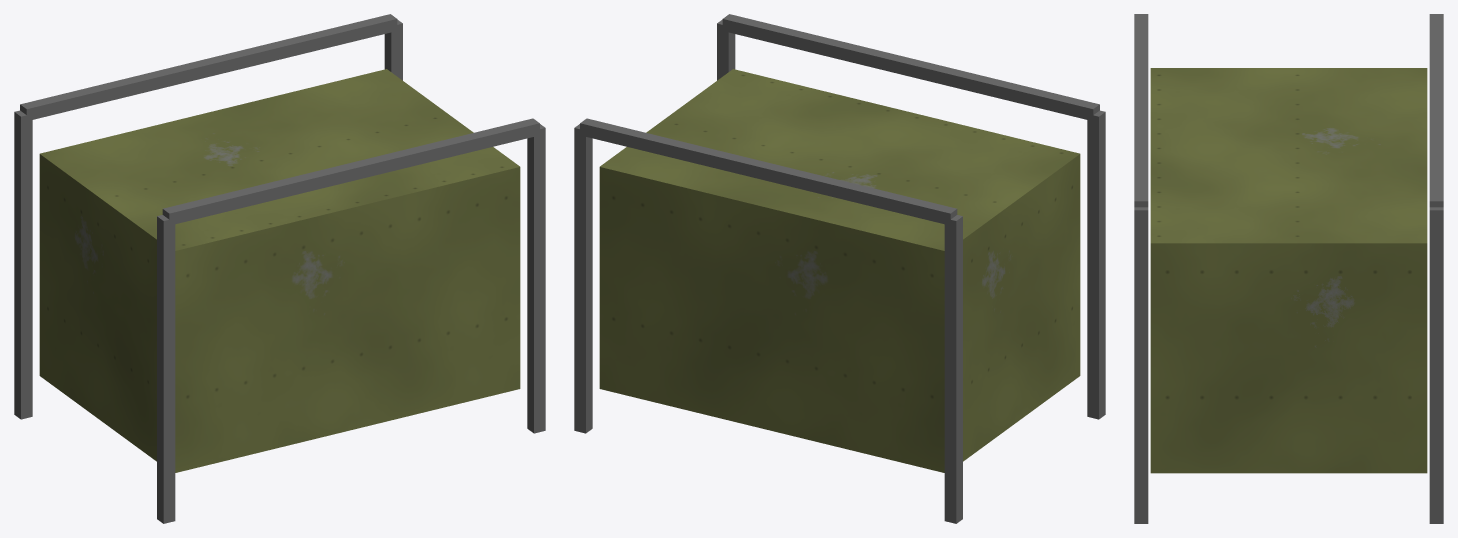
File: generator.glb
3 renders of one model, left to right at view 1: azimuth 30°, elevation 25°; view 2: azimuth 150°, elevation 25°; view 3: azimuth 270°, elevation 25°, orthographic. The views are drawn at different scales.
Visible parts, largest first — view 1: generator; view 2: generator; view 3: generator.
Part boxes in pixels (bbox=[...]): generator: bbox=[14, 14, 545, 523]; generator: bbox=[574, 14, 1105, 523]; generator: bbox=[1134, 14, 1443, 523].
Bounding box in the file's own units: 0.99 × 0.765 × 0.67.
Materials: 2 (1 with a texture image).
